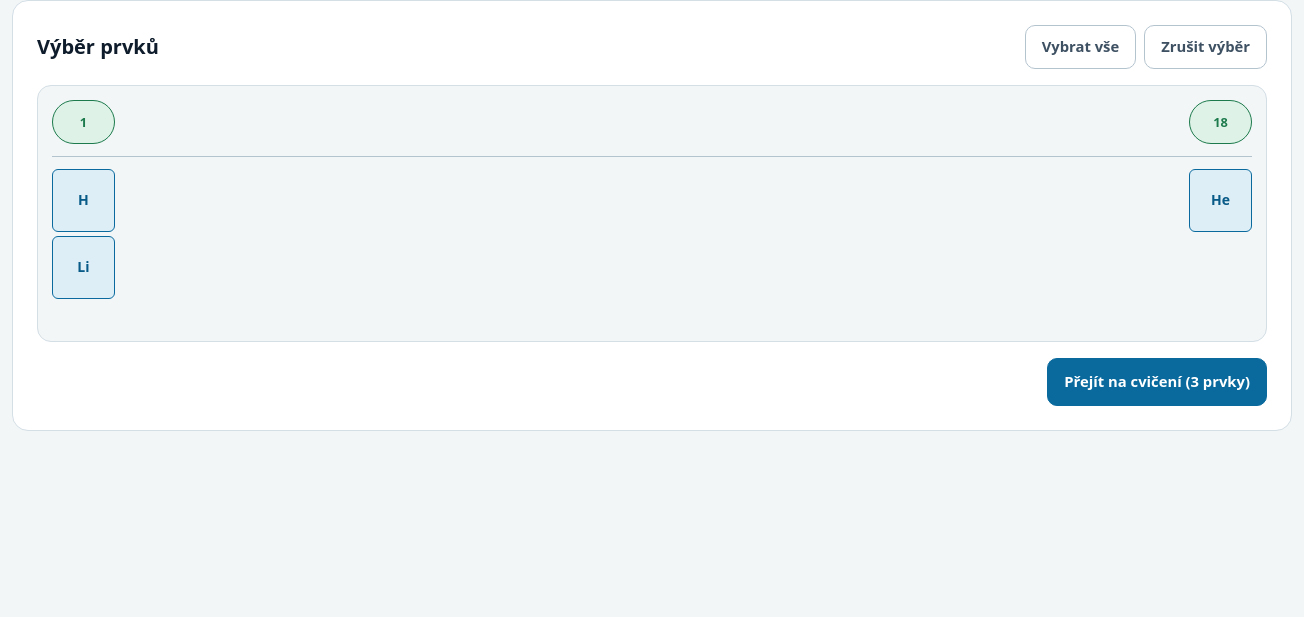
PeriodicTablePractice › runs a stopwatch that Ukončit stops before showing the summary
Click the button "Přejít na cvičení (3 prvky)": (1157, 382) [1047,358,1267,406]
Wait 65000 ms
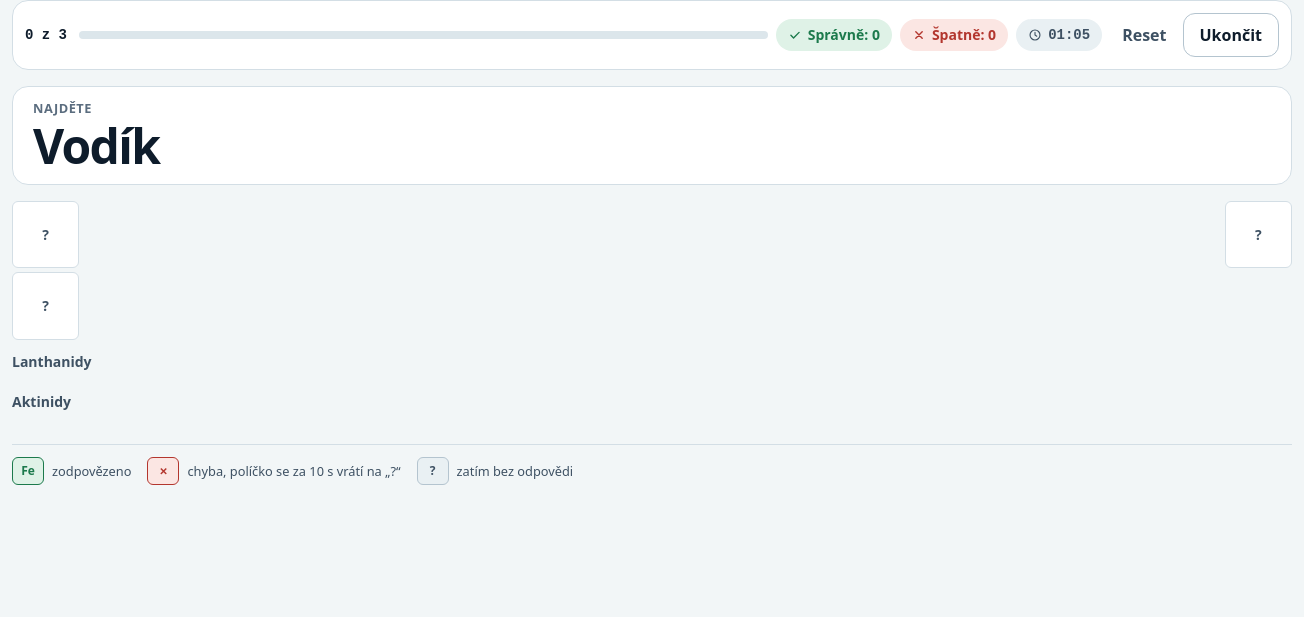
Now the text "01:05" is shown, box [1048,25,1090,45]
Click the button named "Perioda 1, skupina 1": (46, 235) [12,201,79,268]
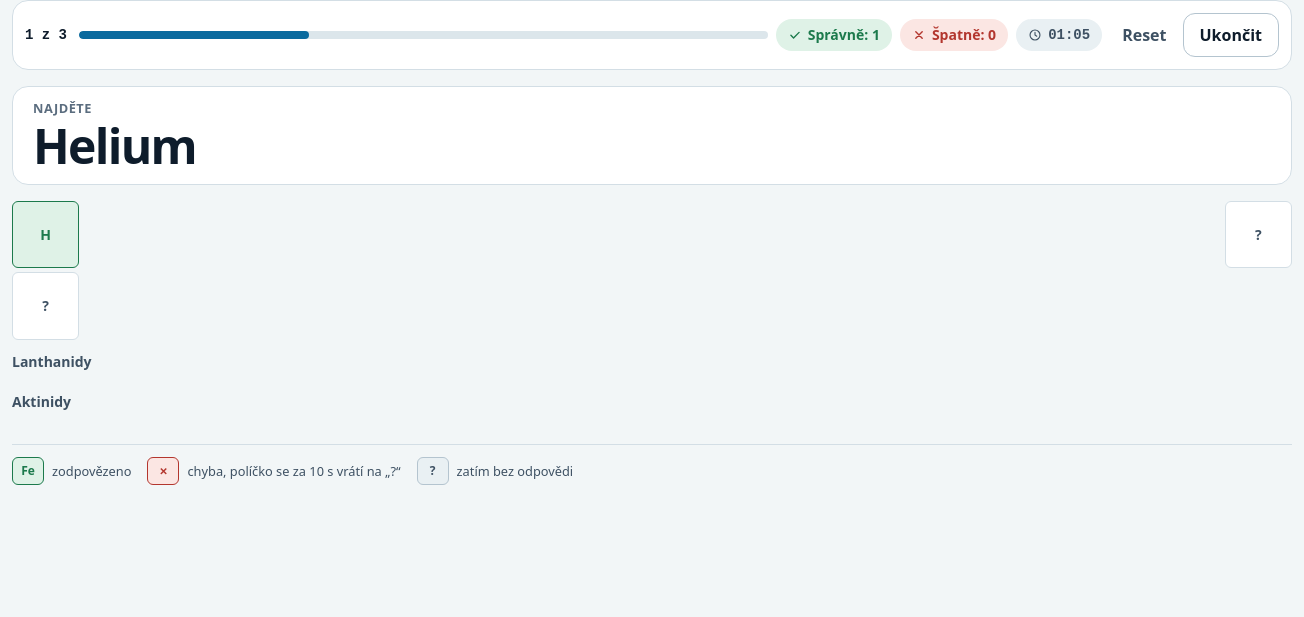
Click the button named "Perioda 2, skupina 1": (46, 306) [12,272,79,340]
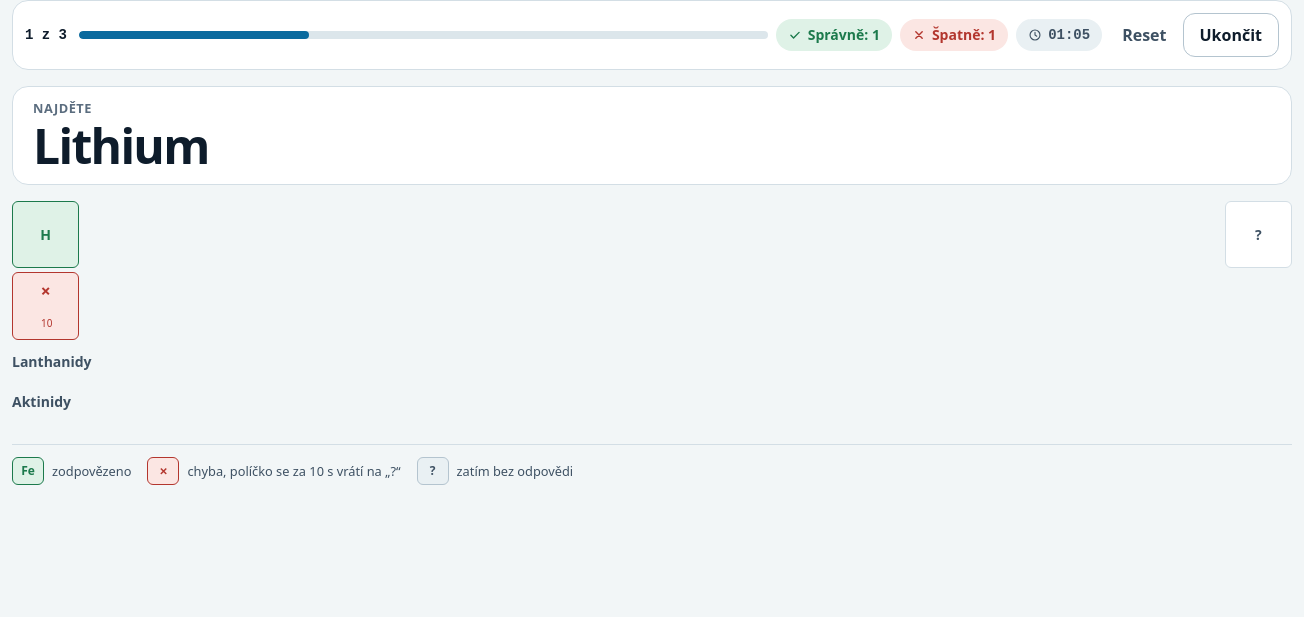
Click the button "Ukončit": (1231, 35) [1182,13,1279,57]
Wait 10000 ms
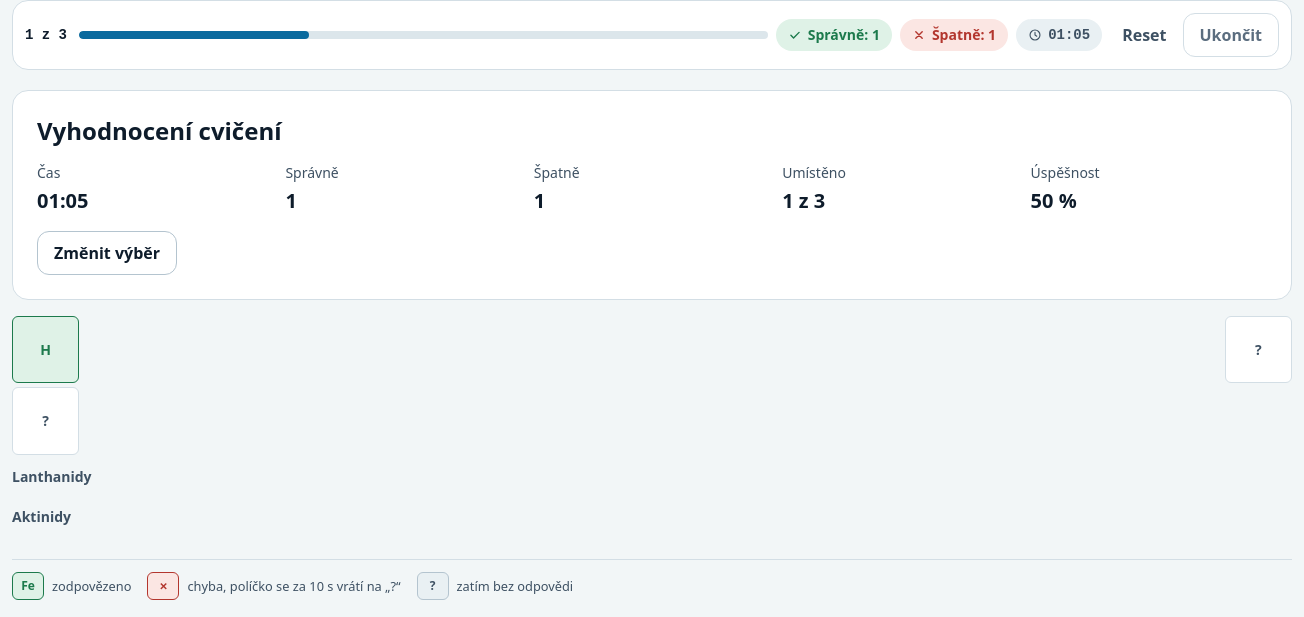
Now the text "01:05" below "Čas" is shown, box [37,187,88,214]
Now the 2nd text "1" is shown, box [534,187,545,214]
Now the text "1 z 3" below "Umístěno" is shown, box [782,187,825,214]
